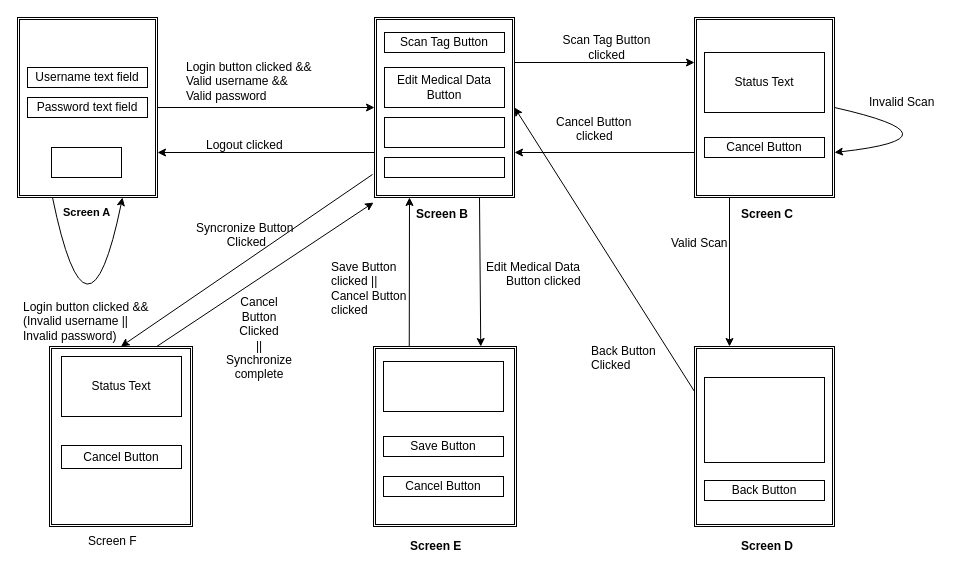
This 965x574 diagram has some shape labels left out. The shapes that lost their labels are listed below. From the top down, each one's box as (x1, y1, x2, y2) in pixels, then its label:
(384, 116, 504, 148): Synchronize Button
(50, 146, 122, 178): Login Button
(384, 156, 504, 178): Logout Button
(382, 360, 504, 412): Editable Medical Data
(704, 376, 824, 462): Display medical Record
